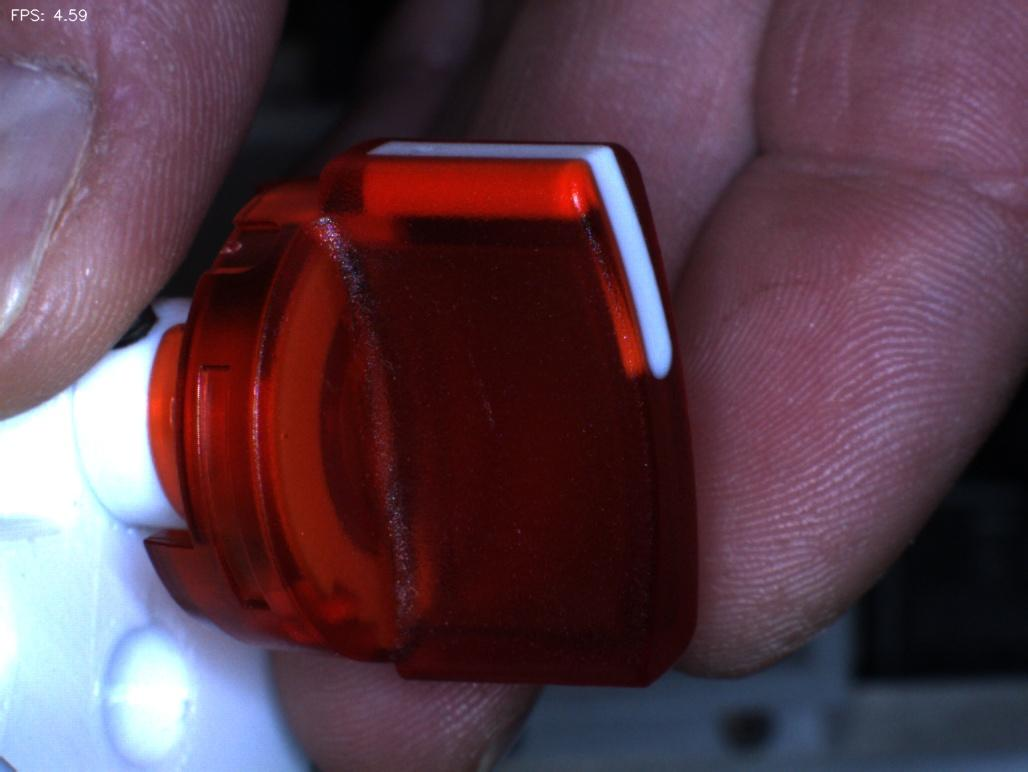Givrage: (439, 313, 527, 447)
